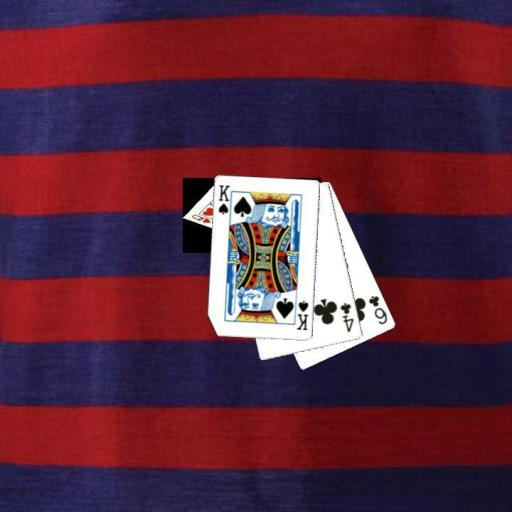4C: (337, 300, 356, 334)
6C: (365, 293, 389, 327)
KS: (216, 182, 235, 220), (294, 297, 310, 332)
